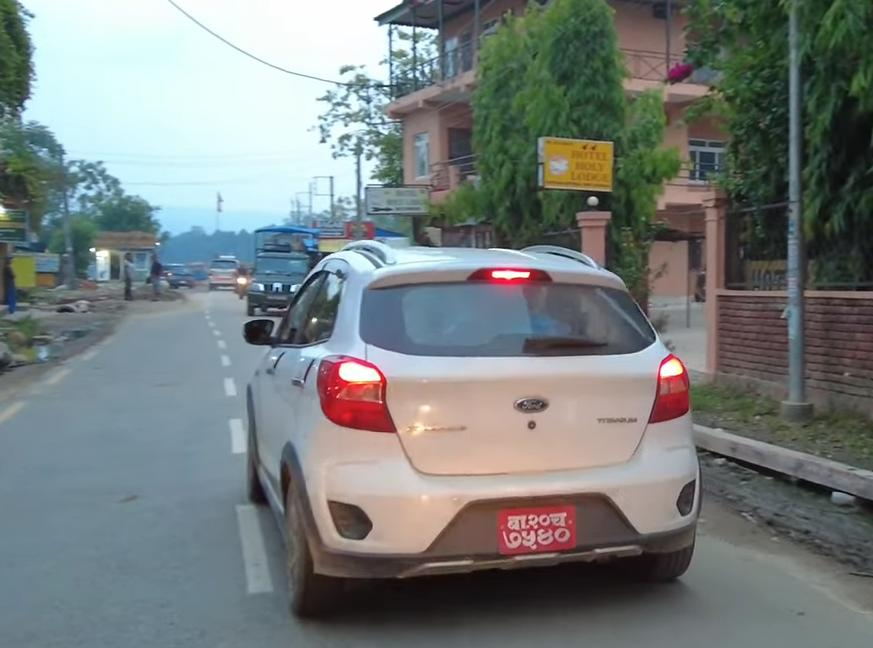car: (245, 242, 718, 622)
